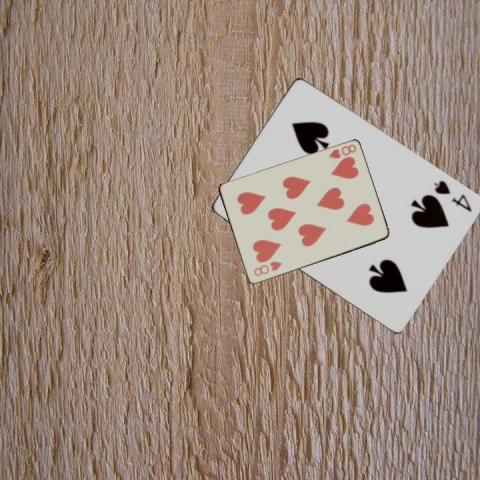4s: (430, 178, 473, 214)
8h: (326, 141, 357, 161), (251, 259, 283, 278)
